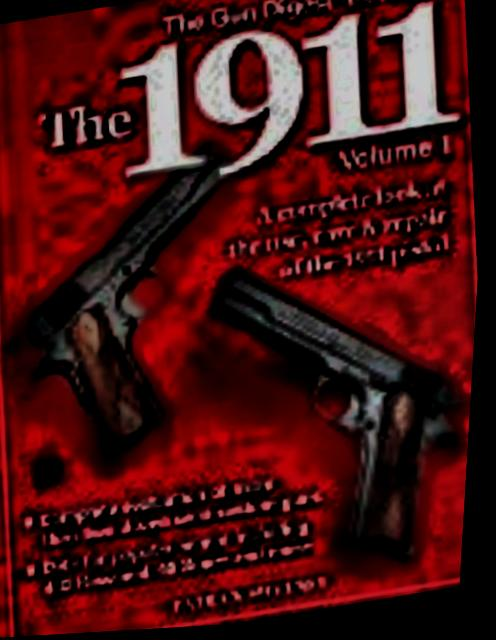pistol: (183, 230, 484, 596), (0, 131, 263, 477)
